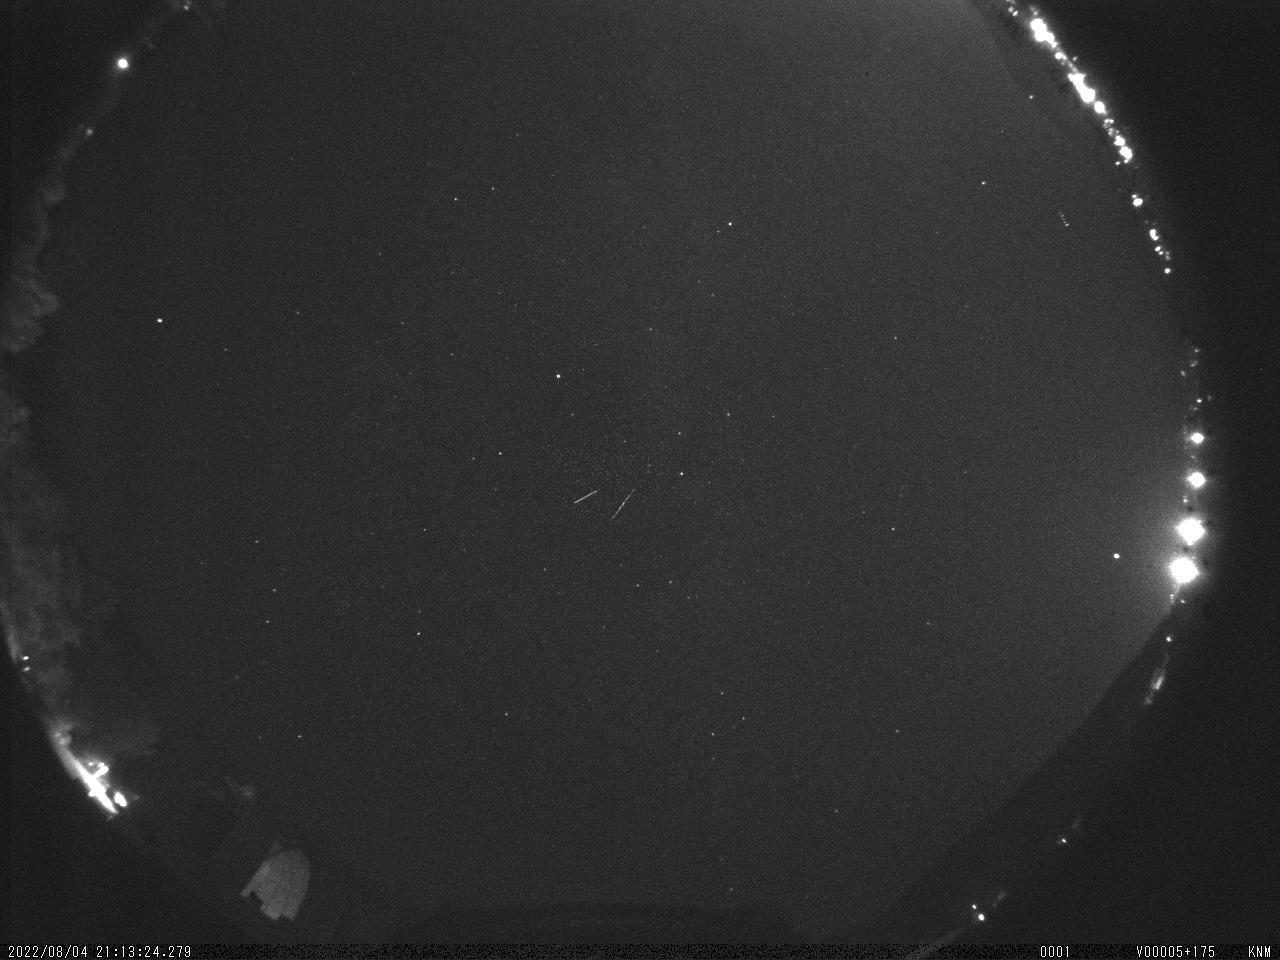Meteor: (609, 482, 640, 531), (569, 485, 602, 510)
